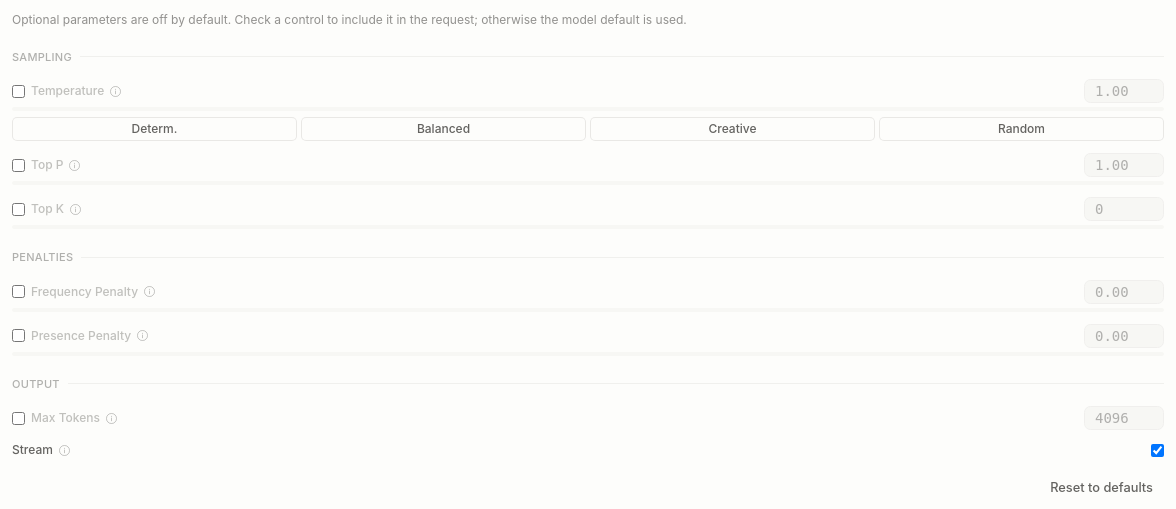
Test: EvalParametersEditor › auto-enables temperature when a preset is selected
Expected: the checkbox named "Include Temperature" is not checked, [12,84,25,98]
What coordinates should you click on to do the following:
click the button "Balanced"
I would click on:
 (444, 129)
Its box is [301,117,586,141].
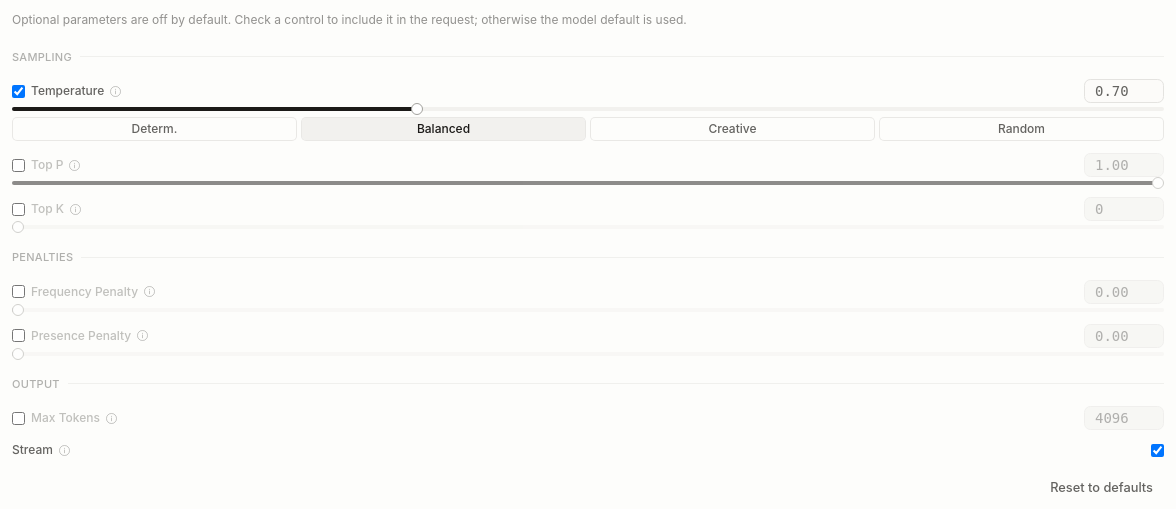
Expected: the checkbox named "Include Temperature" is checked, [12,84,25,98]
